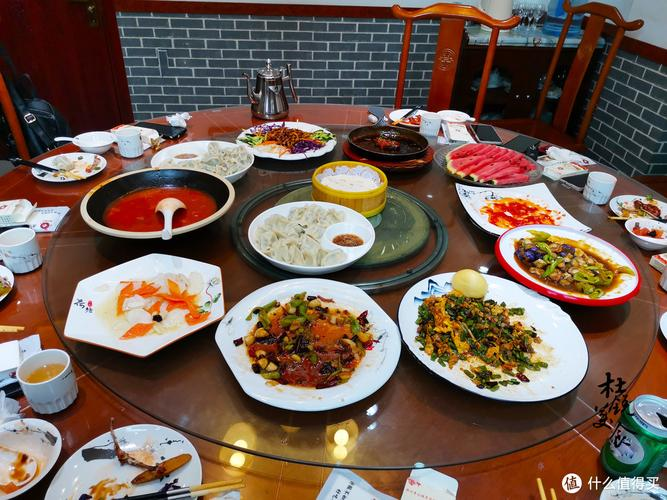food: (399, 264, 583, 405), (220, 269, 397, 411), (70, 247, 230, 362), (496, 214, 636, 315), (82, 161, 235, 240), (240, 189, 376, 275), (63, 417, 201, 492), (440, 135, 541, 193), (459, 180, 566, 234), (234, 114, 337, 163), (309, 152, 387, 216), (346, 116, 430, 171), (153, 136, 256, 180), (624, 211, 665, 248)
